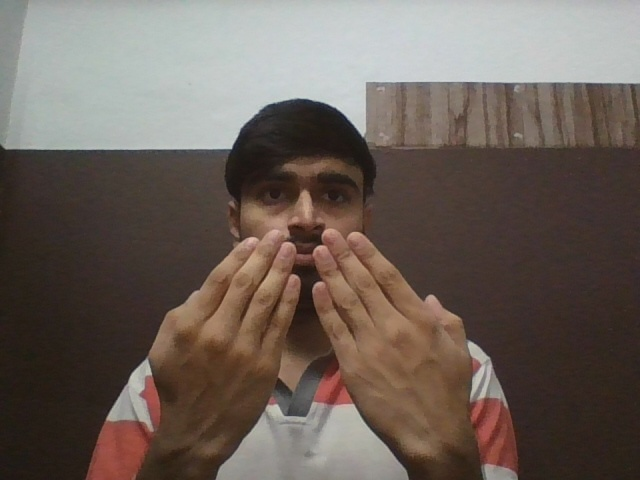Thankyou: (148, 230, 474, 447)
